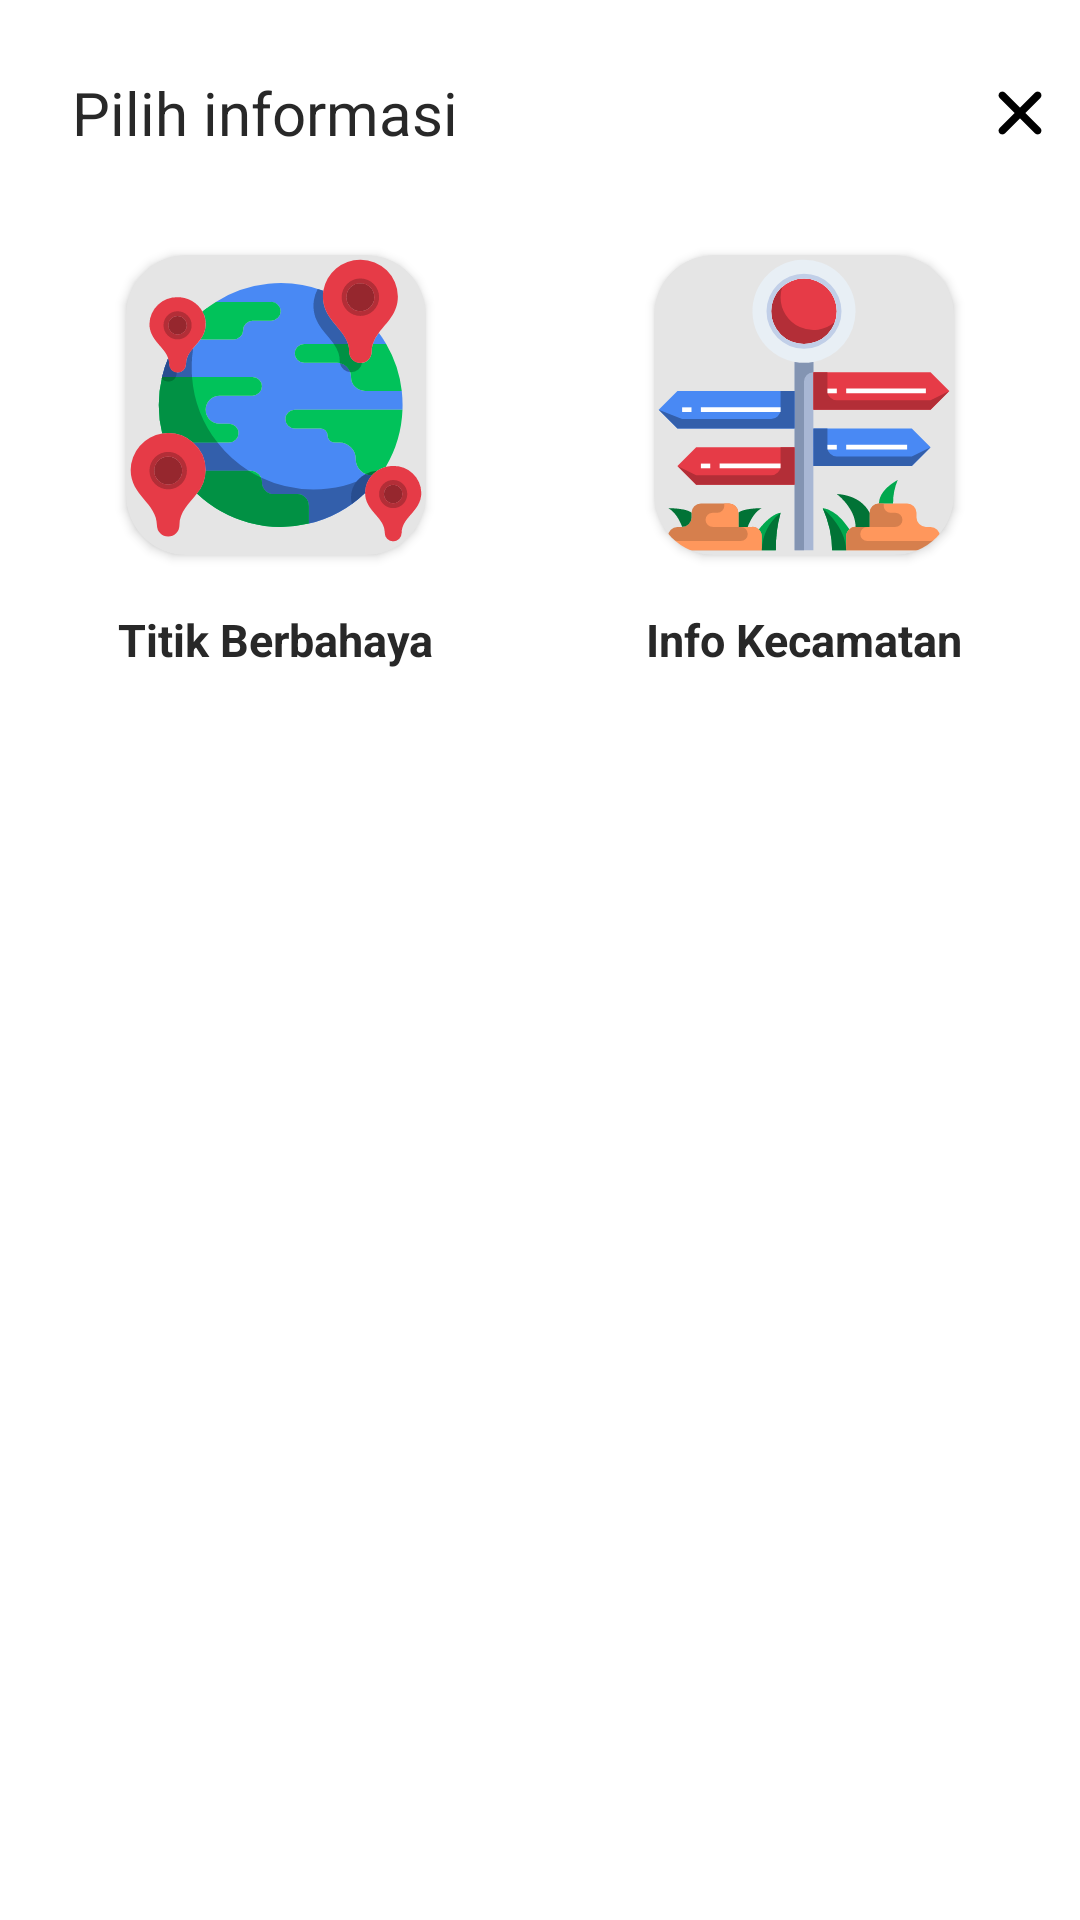

Icon bounding boxes for this 1080px x 1920px phone screenshot, format (x1, y1, x2, y2):
cross: (998, 91, 1042, 135)
